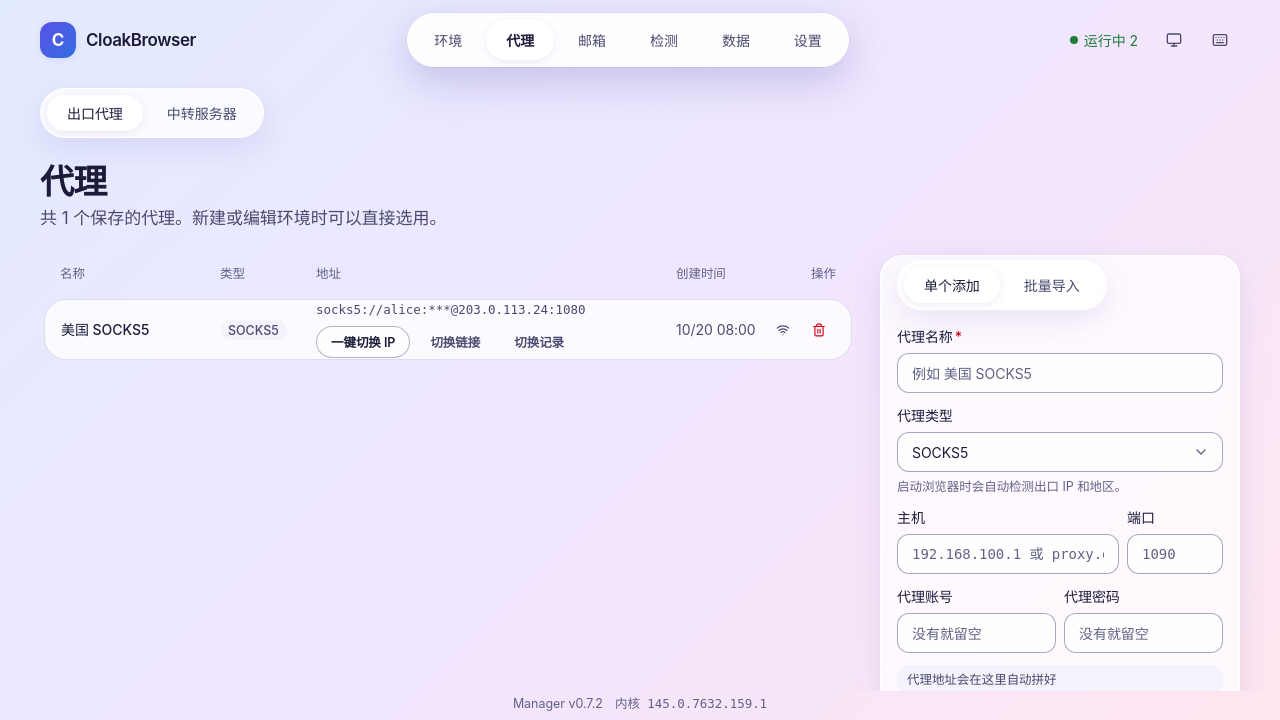
it: preserves the request id after a lost response instead of rotating again
Check: the heading "代理" is shown, box [40,161,106,202]
Click the button "一键切换 IP": (363, 342) [316,326,410,358]
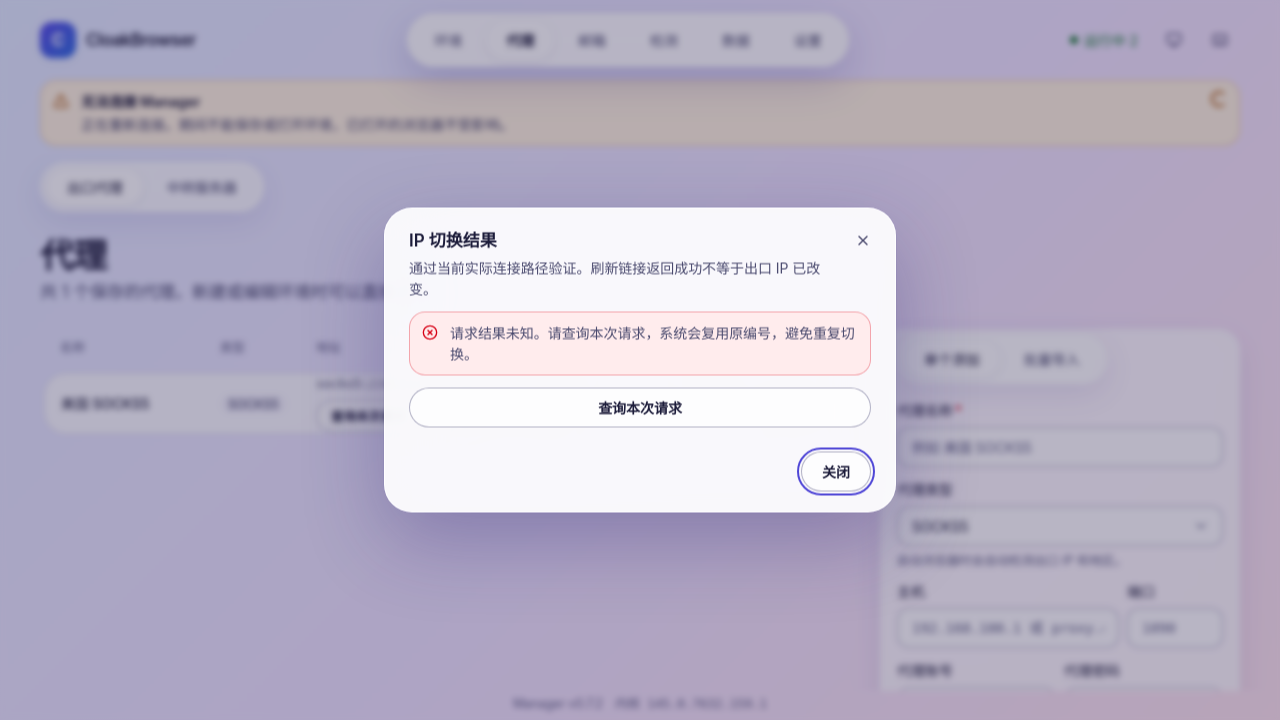
Check: the text "请求结果未知。请查询本次请求，系统会复用原编号，避免重复切换。" is shown, box [450,322,858,364]
Click the button "查询本次请求": (640, 408) [409,388,871,428]
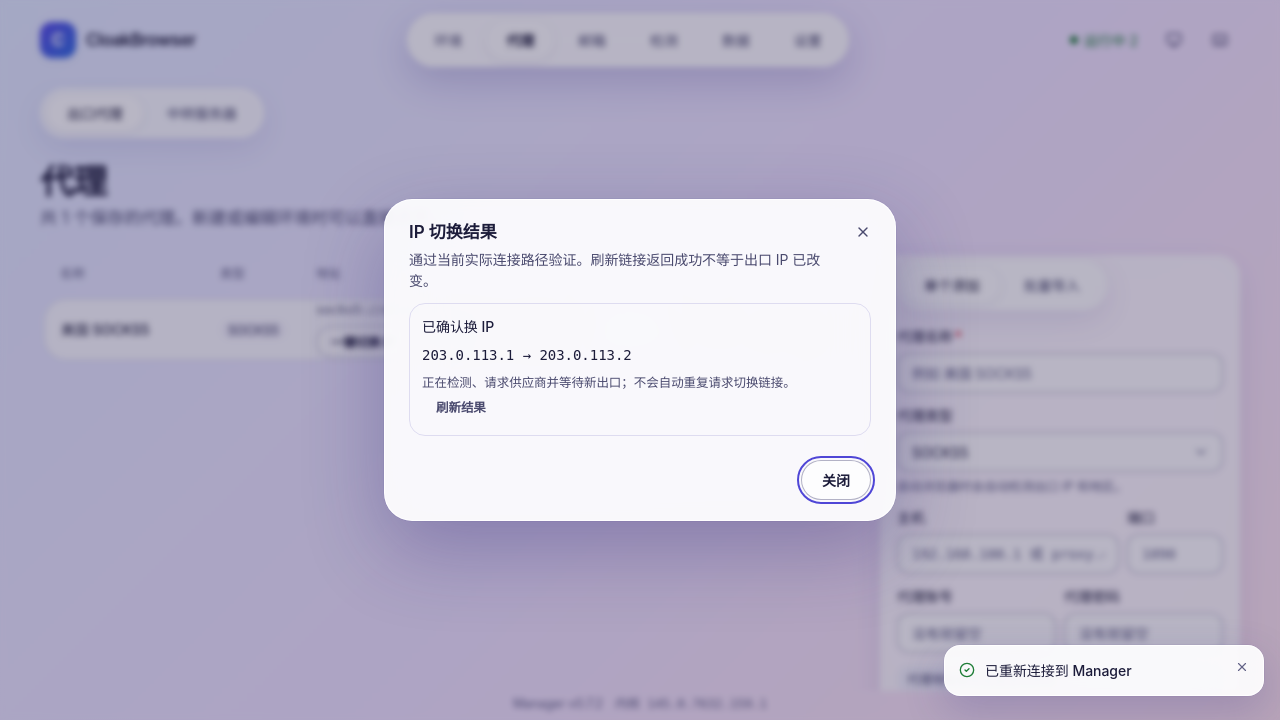
Check: the text "已确认换 IP" is shown, box [422,318,494,335]
